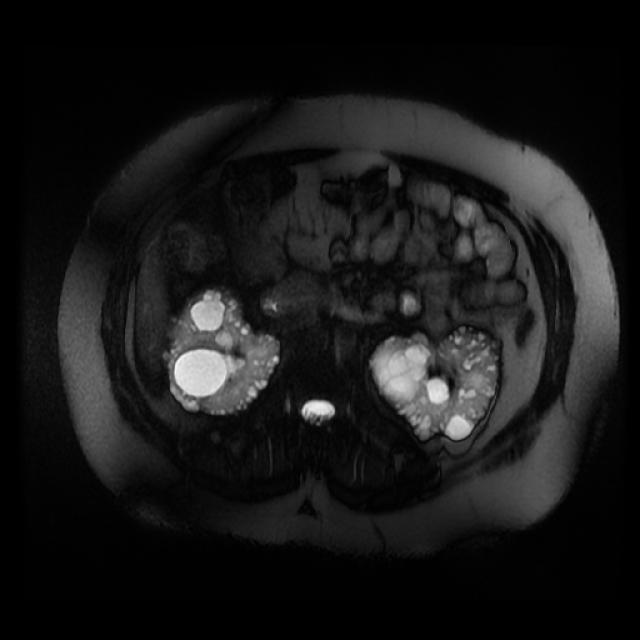sag: (166, 287, 285, 417)
sol: (371, 326, 499, 442)
